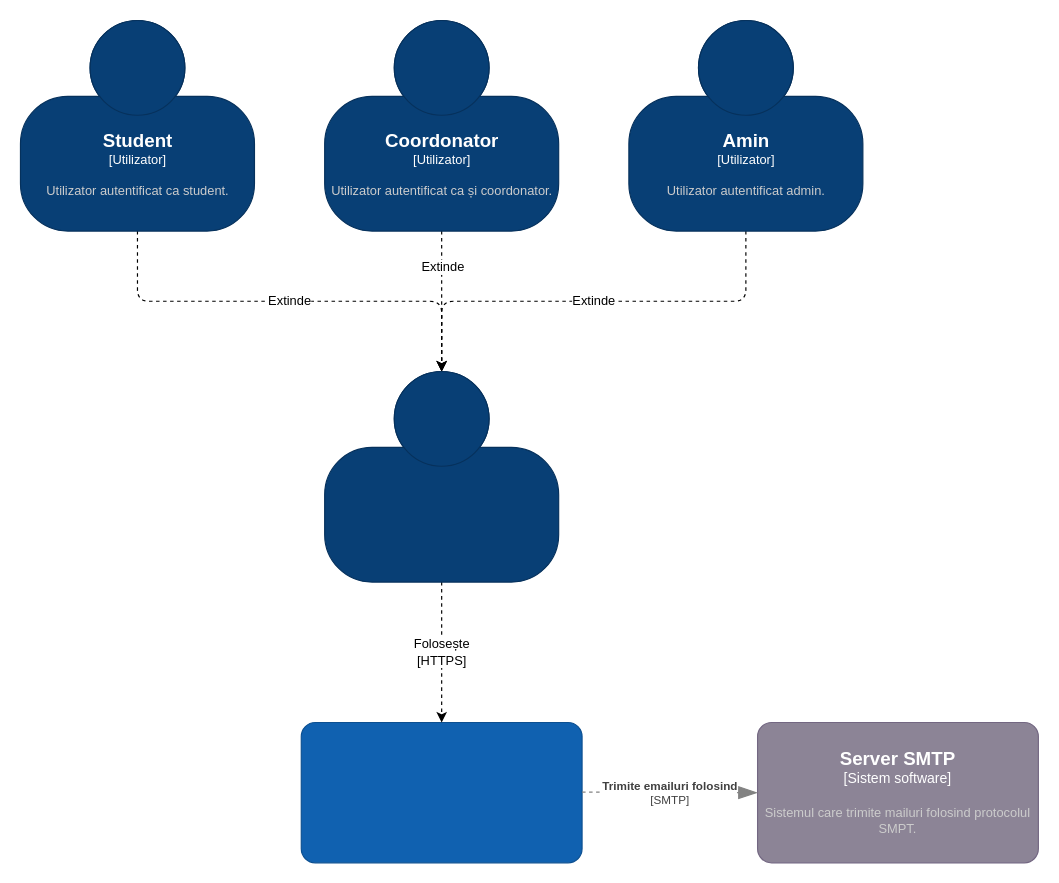
The diagram is 1059 pixels wide and 883 high, and some of its shapes have lost their labels. Each missing label, with the box of its shape:
Aplicația de management a activității academice [Sistem software]: (300, 721, 582, 863)
Utilizator [Utilizator] Utilizator autentificat.: (324, 370, 559, 582)
